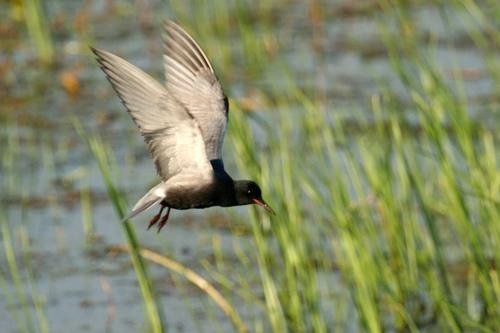bird: (87, 16, 280, 233)
